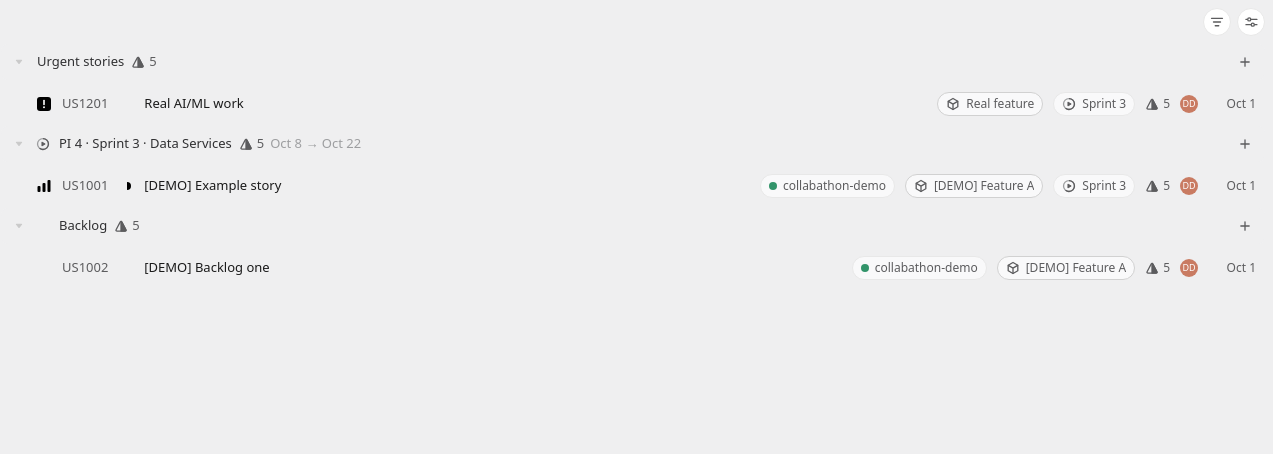
it: Rally's words › filter value counts read "1 story"
Click the button named "Add filter". click: (1217, 22)
box: [1203,8,1231,36]
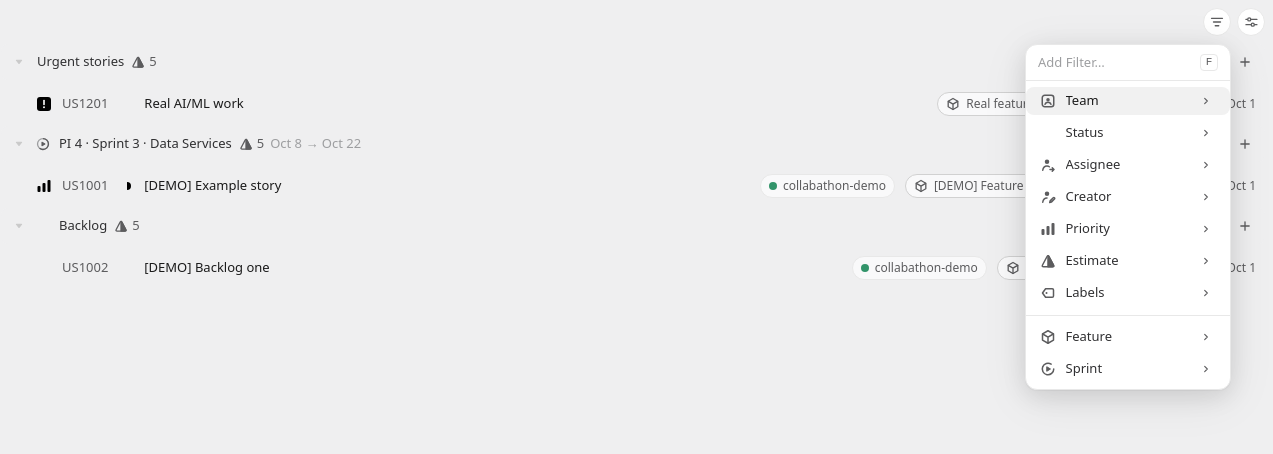
Click the menu item "Priority". click: (1088, 228)
box: [1040,219,1212,237]
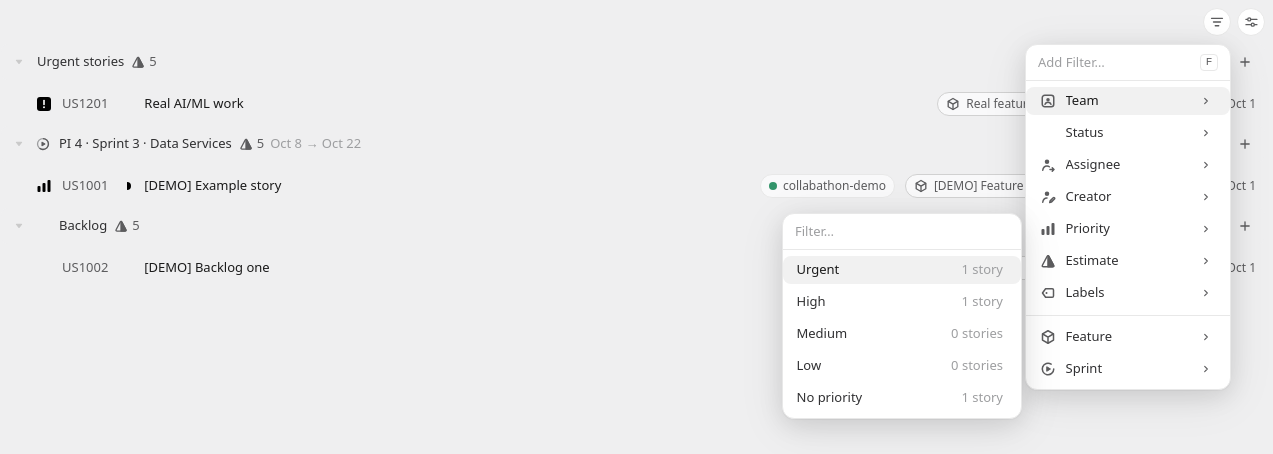
Expected: the menu item "Urgent 1 story" is shown, [796,260,1003,278]
